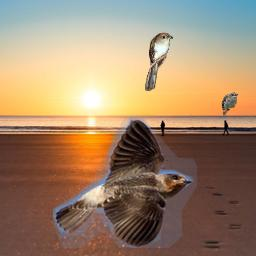Cuckoo: (145, 32, 173, 91), (221, 92, 238, 117)
Swallow: (53, 117, 197, 248)
